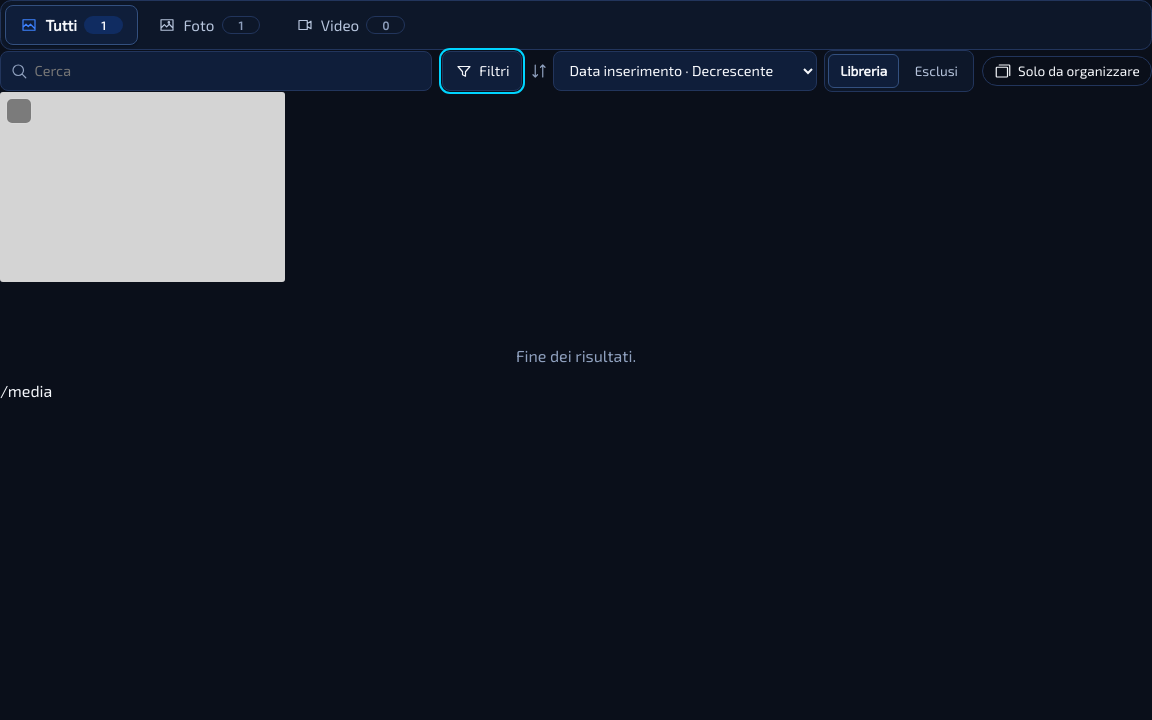
viewer similarity actions — destinations from the Library origin › Explore navigates to the explorer rooted on the open photo
Click the button named "Apri photo.jpg".
click(142, 187)  # box [0,92,285,282]
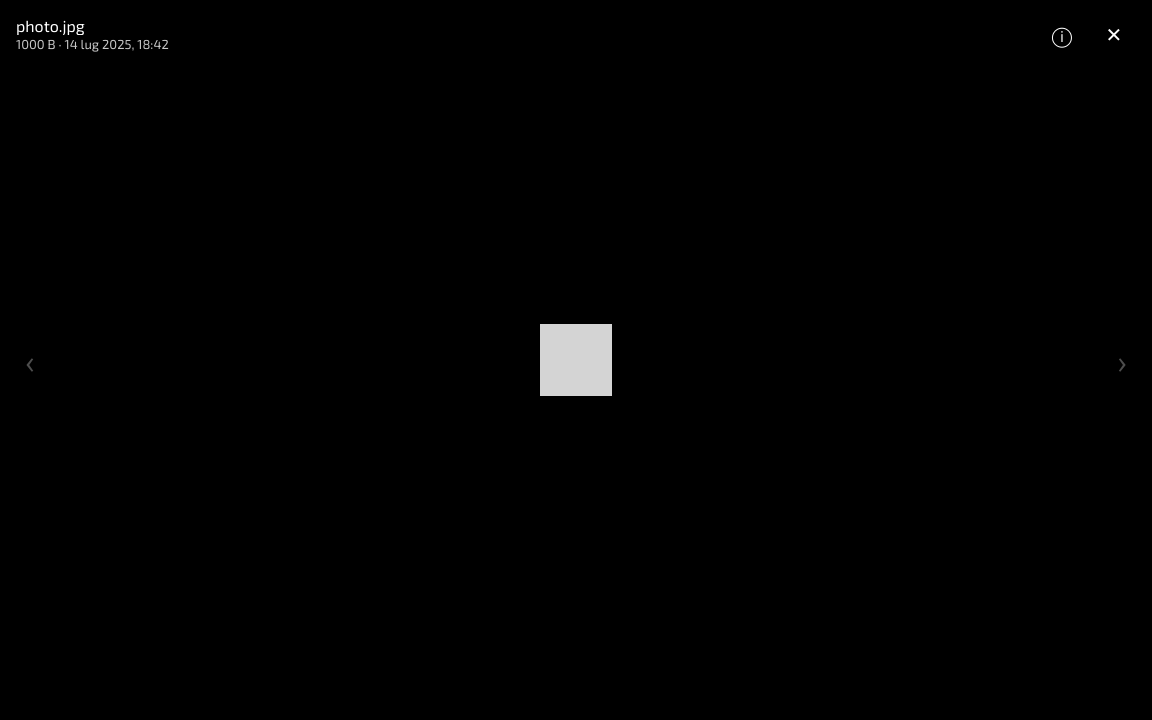
Click the button with test id "viewer-details-toggle".
click(1062, 34)  # box [1040,12,1084,56]
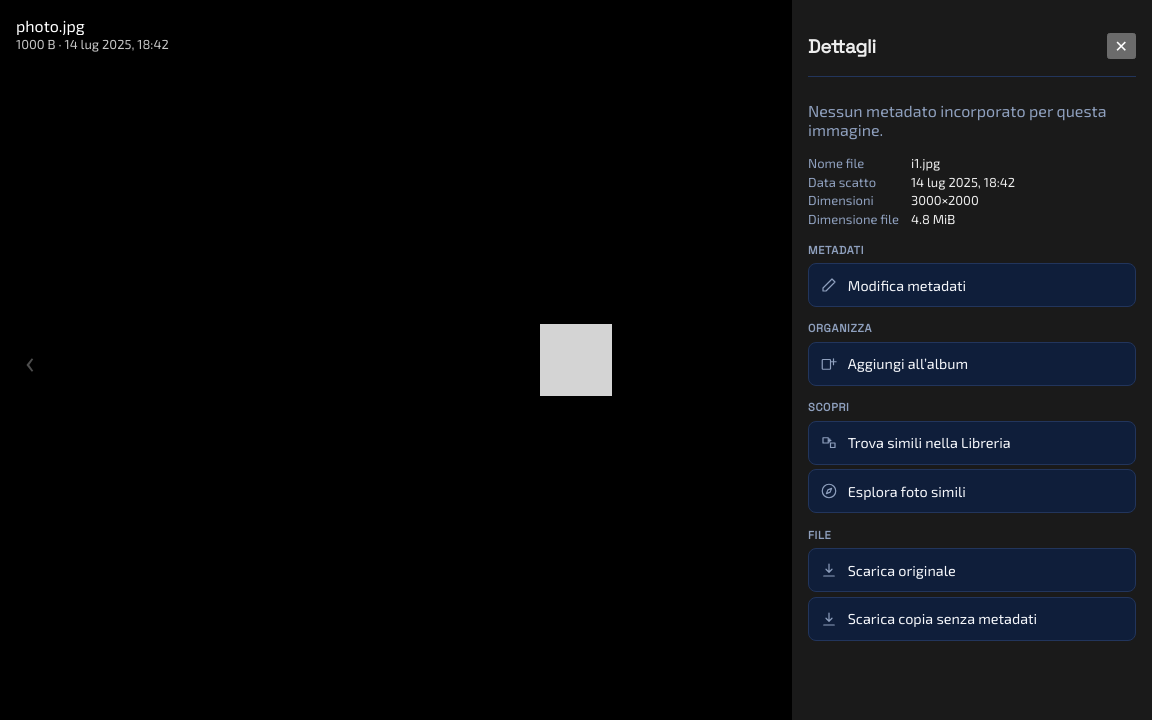
Click the button with test id "viewer-explore-similar".
click(907, 491)  # box [808,469,1136,513]
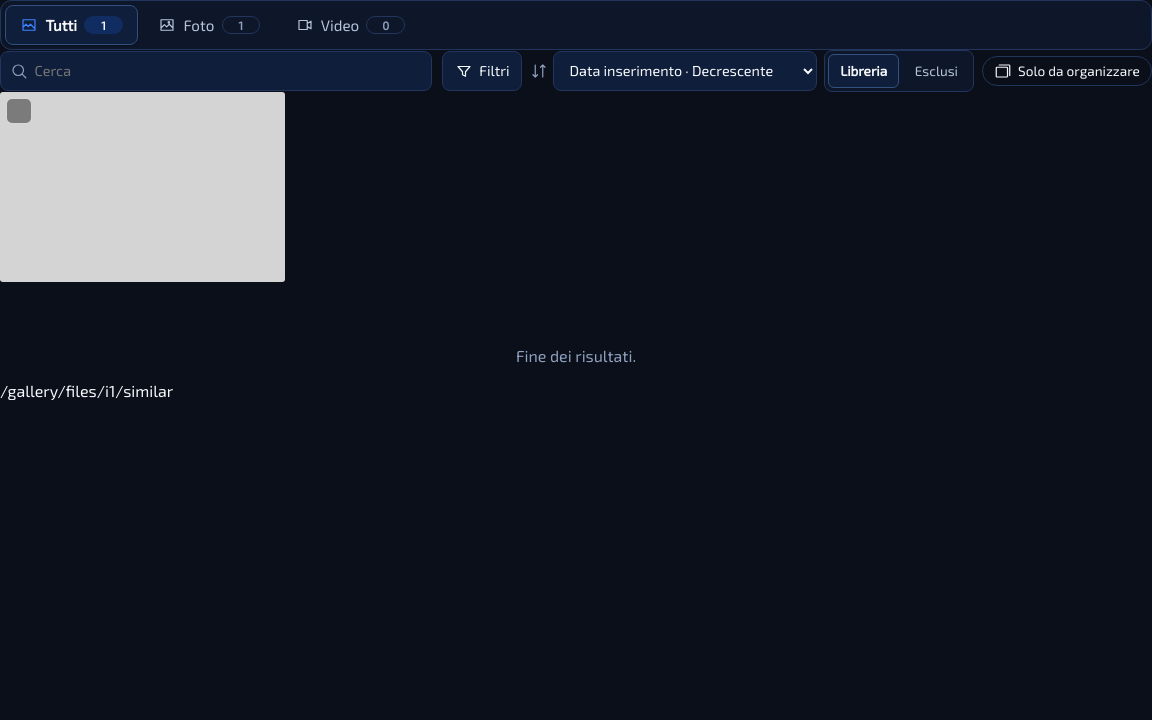
Expected: the text with test id "loc" reads "/gallery/files/i1/similar", [0,381,173,400]
